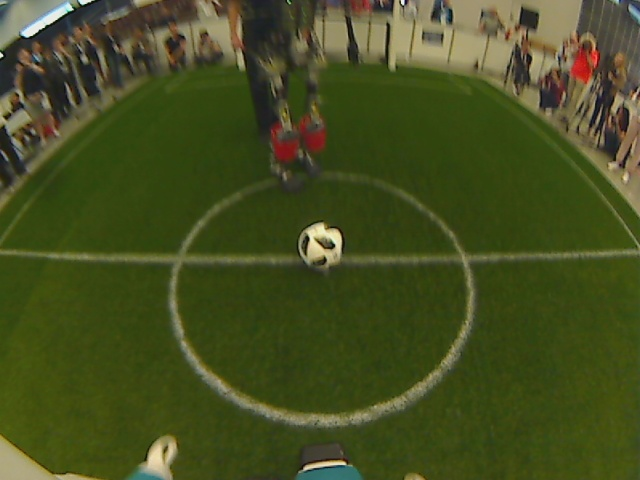ball: (294, 221, 347, 272)
